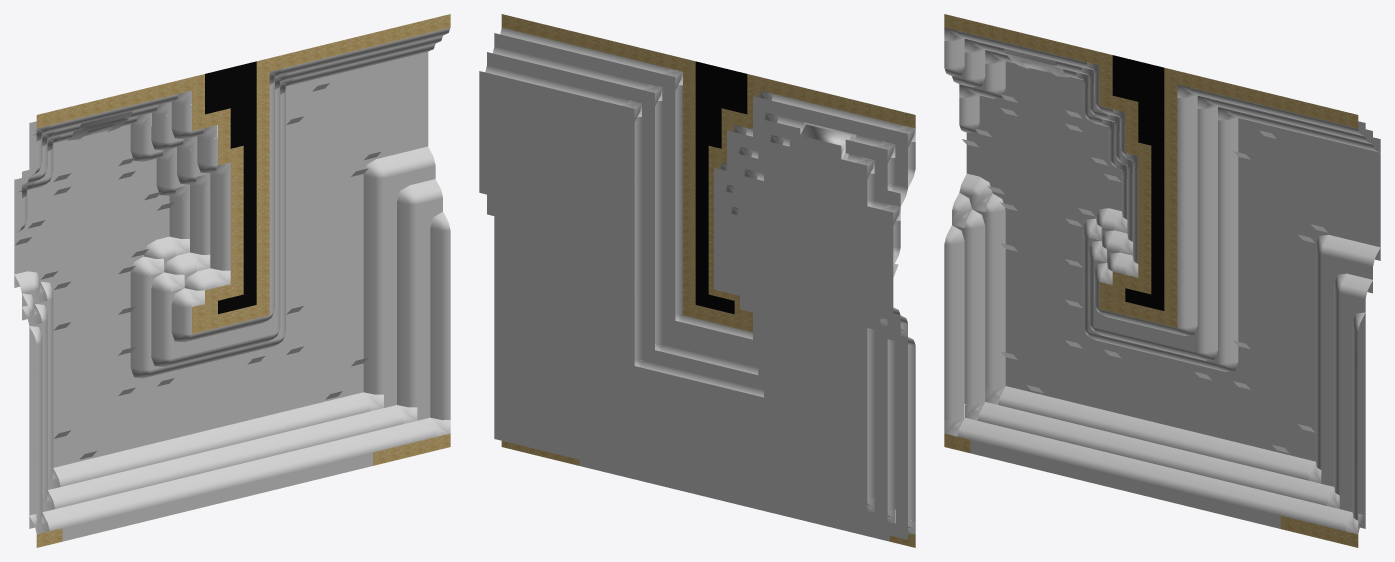
File: Uluru-Cave-3_01_00.obj
3 renders of one model, left to right at view 1: azimuth 30°, elevation 25°; view 2: azimuth 150°, elevation 25°; view 3: azimuth 330°, elevation 25°, orthographic.
Parts seen in each view (by area): view 1: map; view 2: map; view 3: map.
Part boxes in pixels (x1=…): map: x1=14, y1=14, x2=450, y2=547; map: x1=479, y1=14, x2=915, y2=547; map: x1=944, y1=14, x2=1380, y2=547.
Size of the model in its own units: 32 by 32 by 3.
